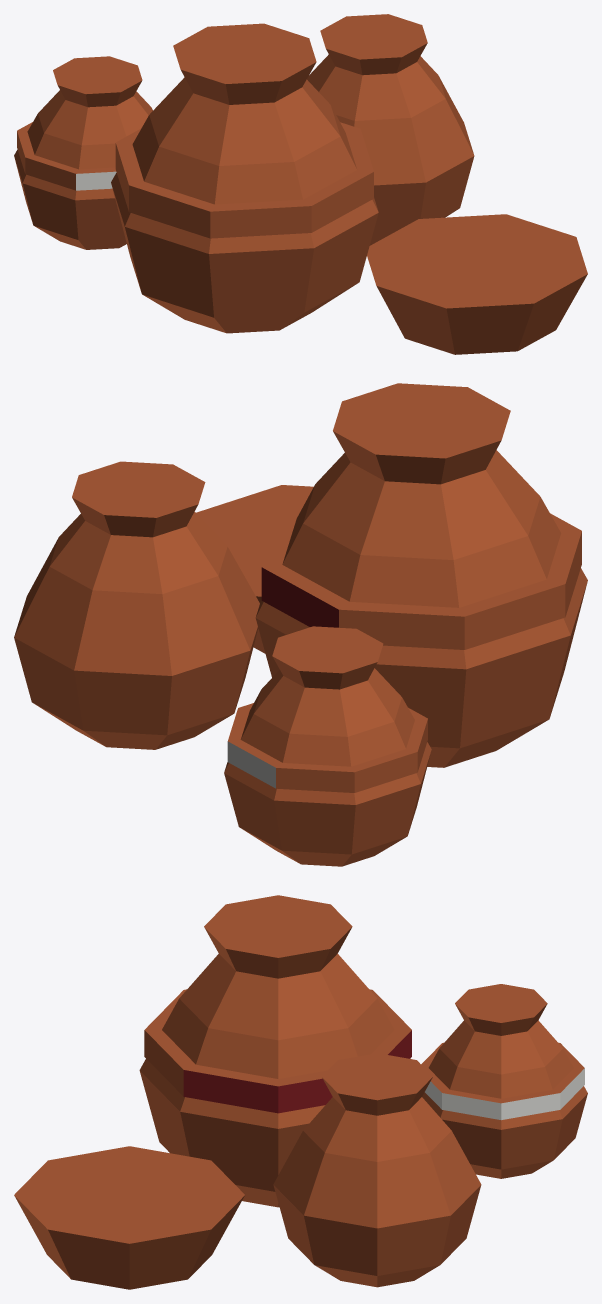
The model's file is Cantaros.fbx.
3 views of the same model, one above another, from view 1: azimuth 30°, elevation 25°; view 2: azimuth 150°, elevation 25°; view 3: azimuth 270°, elevation 25° (orthographic). The views are drawn at different scales.
Parts seen in each view (by area): view 1: Cantaros; view 2: Cantaros; view 3: Cantaros.
Part boxes in pixels (x1,y1,x2,y2): Cantaros: (14,14,587,354); Cantaros: (14,383,587,866); Cantaros: (14,895,587,1289).
Size of the model in its own units: 0.544 by 0.336 by 0.695.
